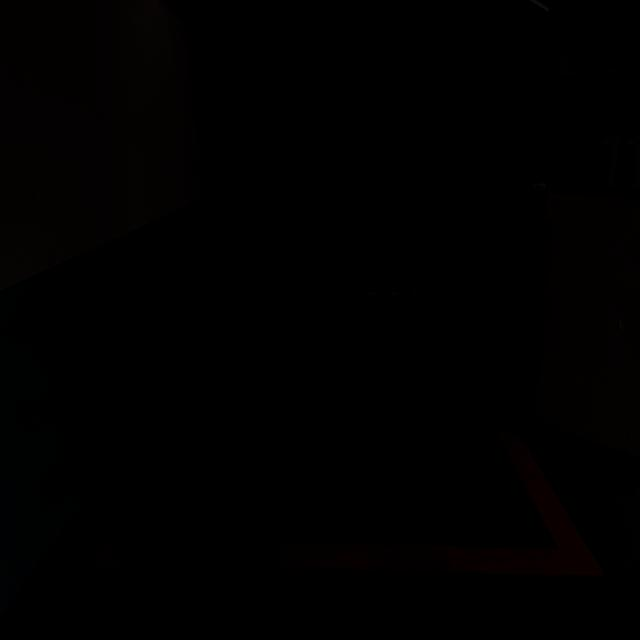empty: (46, 263, 566, 566)
